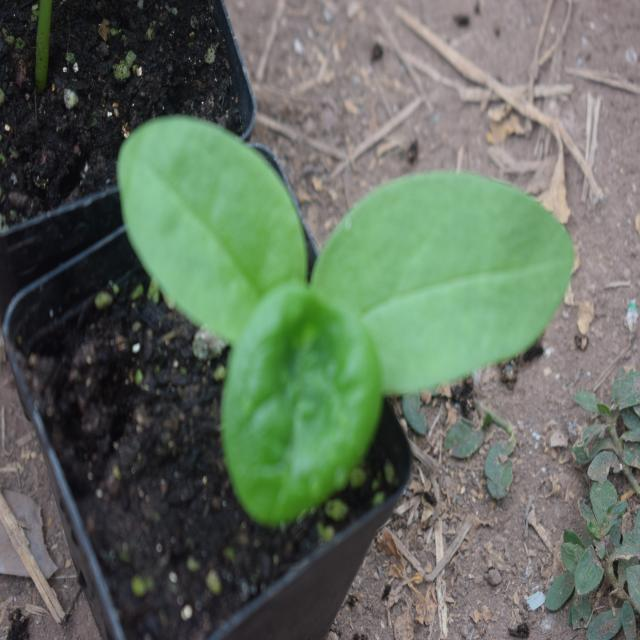Ceylon spinach: (122, 106, 582, 522)
